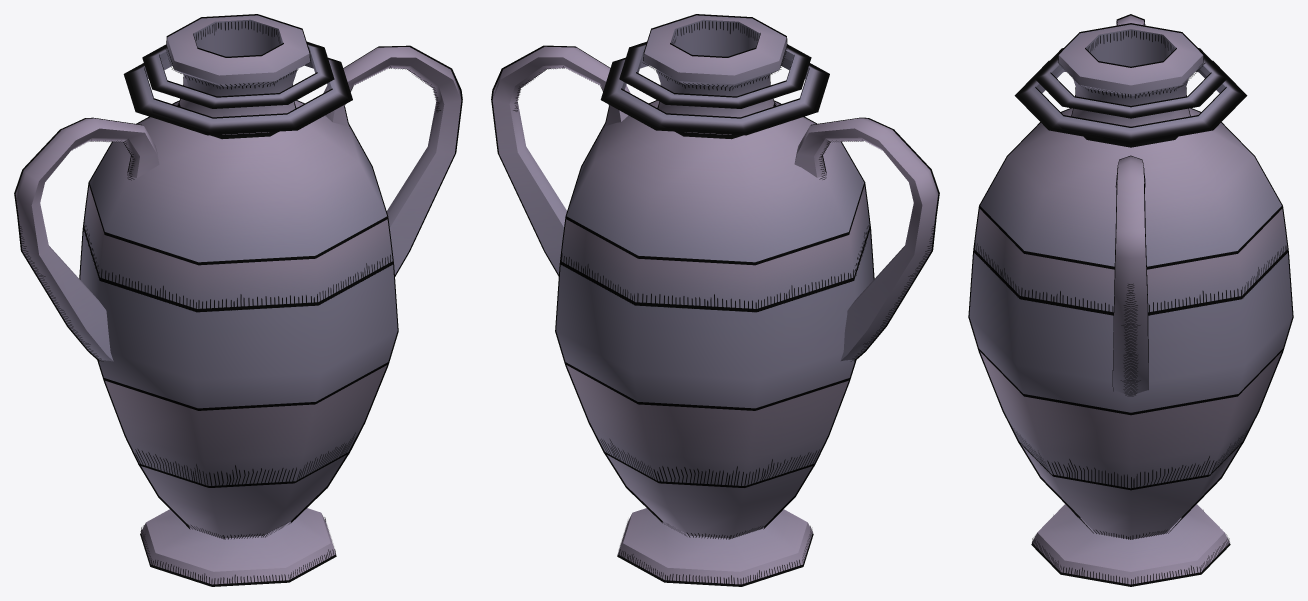
The model's file is Vase_Mid.glb.
3 renders of one model, left to right at view 1: azimuth 30°, elevation 25°; view 2: azimuth 150°, elevation 25°; view 3: azimuth 270°, elevation 25°, orthographic. The views are drawn at different scales.
Visible parts, largest first — view 1: Vase_Mid; view 2: Vase_Mid; view 3: Vase_Mid.
Boxes of the visible parts, box(x1,y1,x2,y2) form: Vase_Mid: box(14, 14, 462, 586); Vase_Mid: box(491, 14, 939, 586); Vase_Mid: box(968, 14, 1293, 586).
Bounding box in the file's own units: 1.52 × 1.66 × 0.9821.
Materials: 3 (2 with a texture image).
